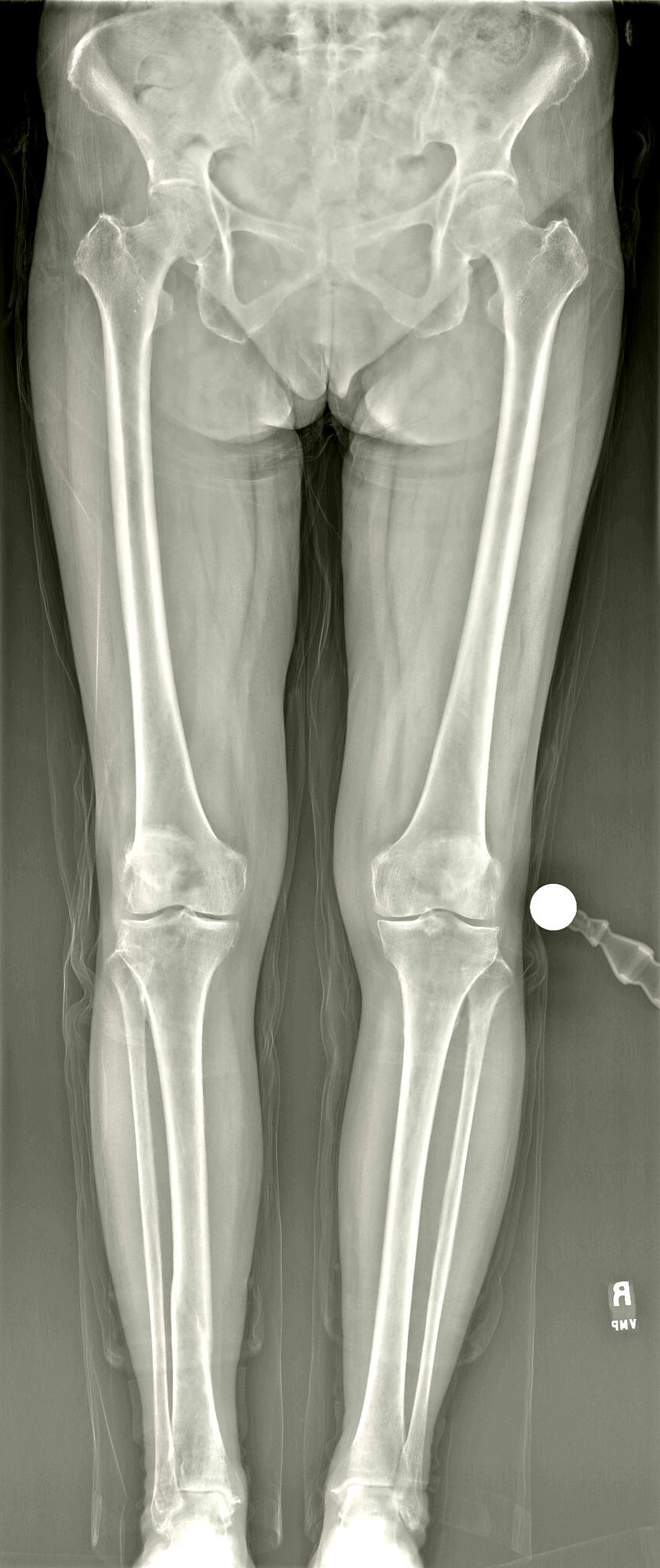Leg Fibula: (399, 957, 511, 1486), (110, 943, 182, 1534)
Leg Tibia: (340, 913, 499, 1490), (119, 911, 238, 1523)
femur: (372, 175, 588, 921), (74, 181, 246, 918)
